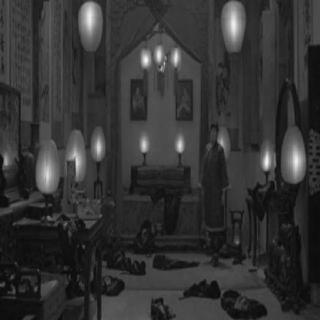other: (138, 38, 188, 82), (75, 1, 108, 53)
